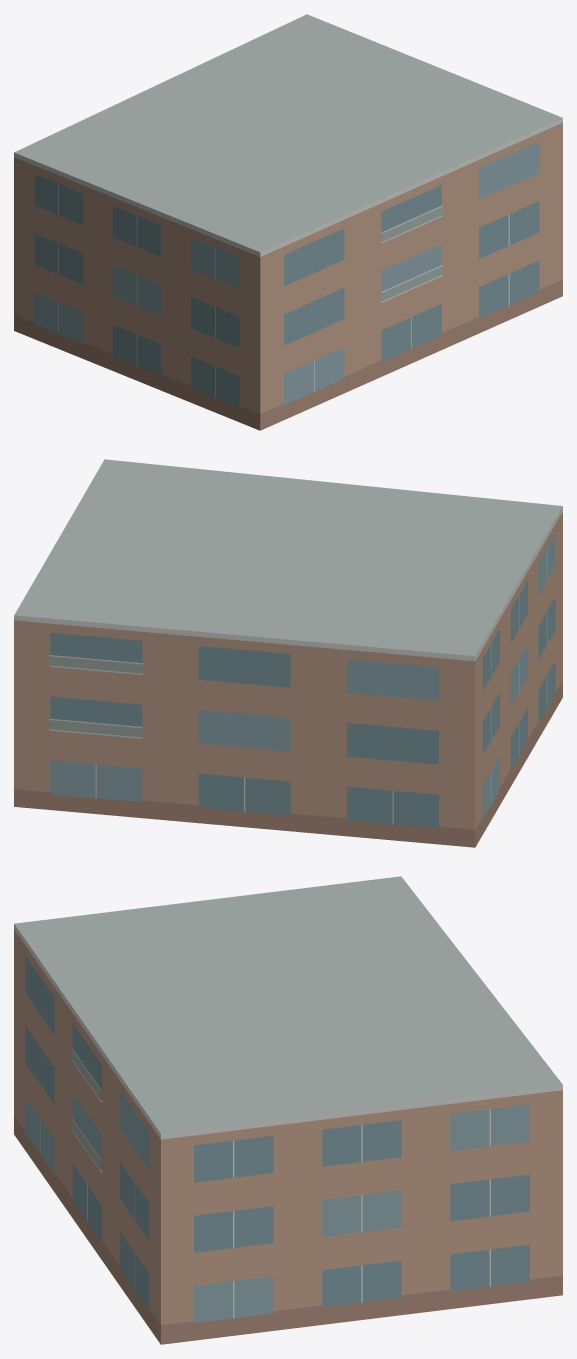
File: survey-upis-32840078.glb
3 renders of one model, top to bottom at view 1: azimuth 30°, elevation 25°; view 2: azimuth 150°, elevation 25°; view 3: azimuth 270°, elevation 25°, orthographic. The views are drawn at different scales.
Visible parts, largest first — view 1: survey-upis-32840078.tmp; view 2: survey-upis-32840078.tmp; view 3: survey-upis-32840078.tmp.
Part boxes in pixels (x1,y1,x2,y2): survey-upis-32840078.tmp: [14, 14, 562, 430]; survey-upis-32840078.tmp: [14, 459, 562, 847]; survey-upis-32840078.tmp: [14, 876, 562, 1344].
Bounding box in the file's own units: 24.01 × 9.15 × 21.61.
